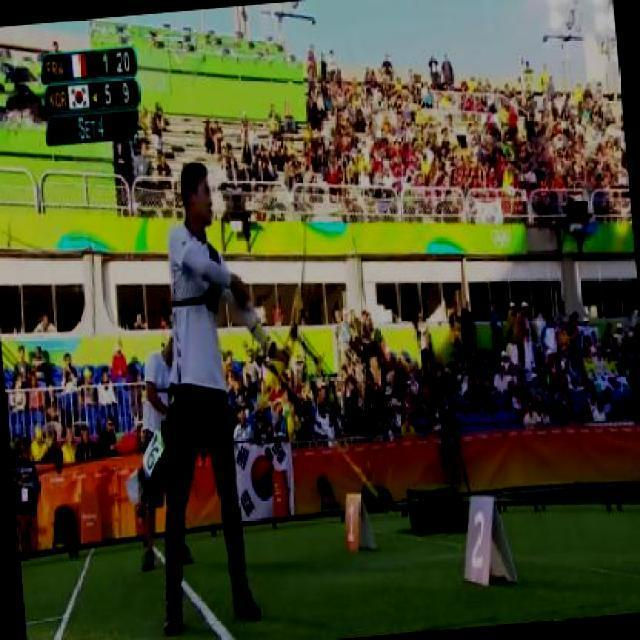non-fight: (150, 162, 276, 626), (130, 326, 196, 568)
